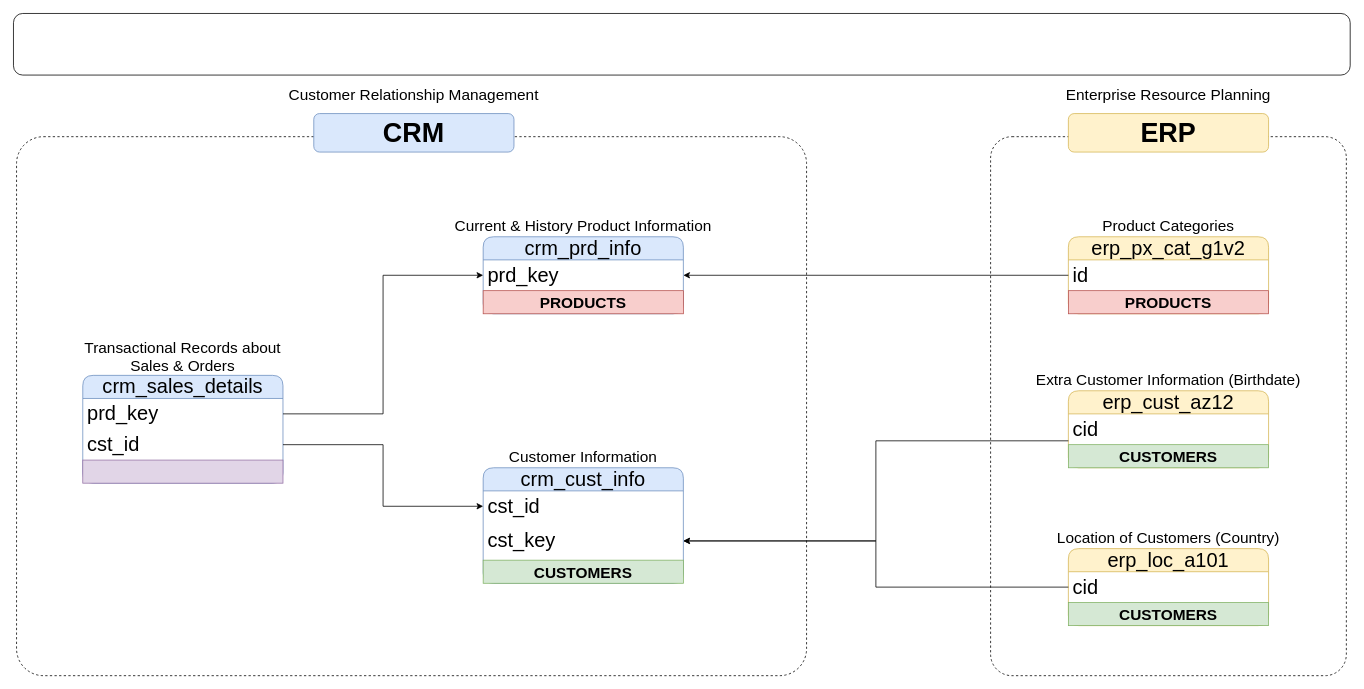
This 1364x689 diagram has some shape labels left out. The centre of each missing label's shape, as x and y in pixels:
Data Integration Model (how the tables are related): the point at 681,44
SALES: the point at 182,471
